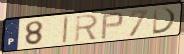7: (129, 7, 150, 37)
8: (24, 20, 46, 46)
D: (151, 6, 178, 36)
I: (61, 15, 70, 45)
P: (100, 11, 126, 41)
R: (73, 13, 100, 43)
